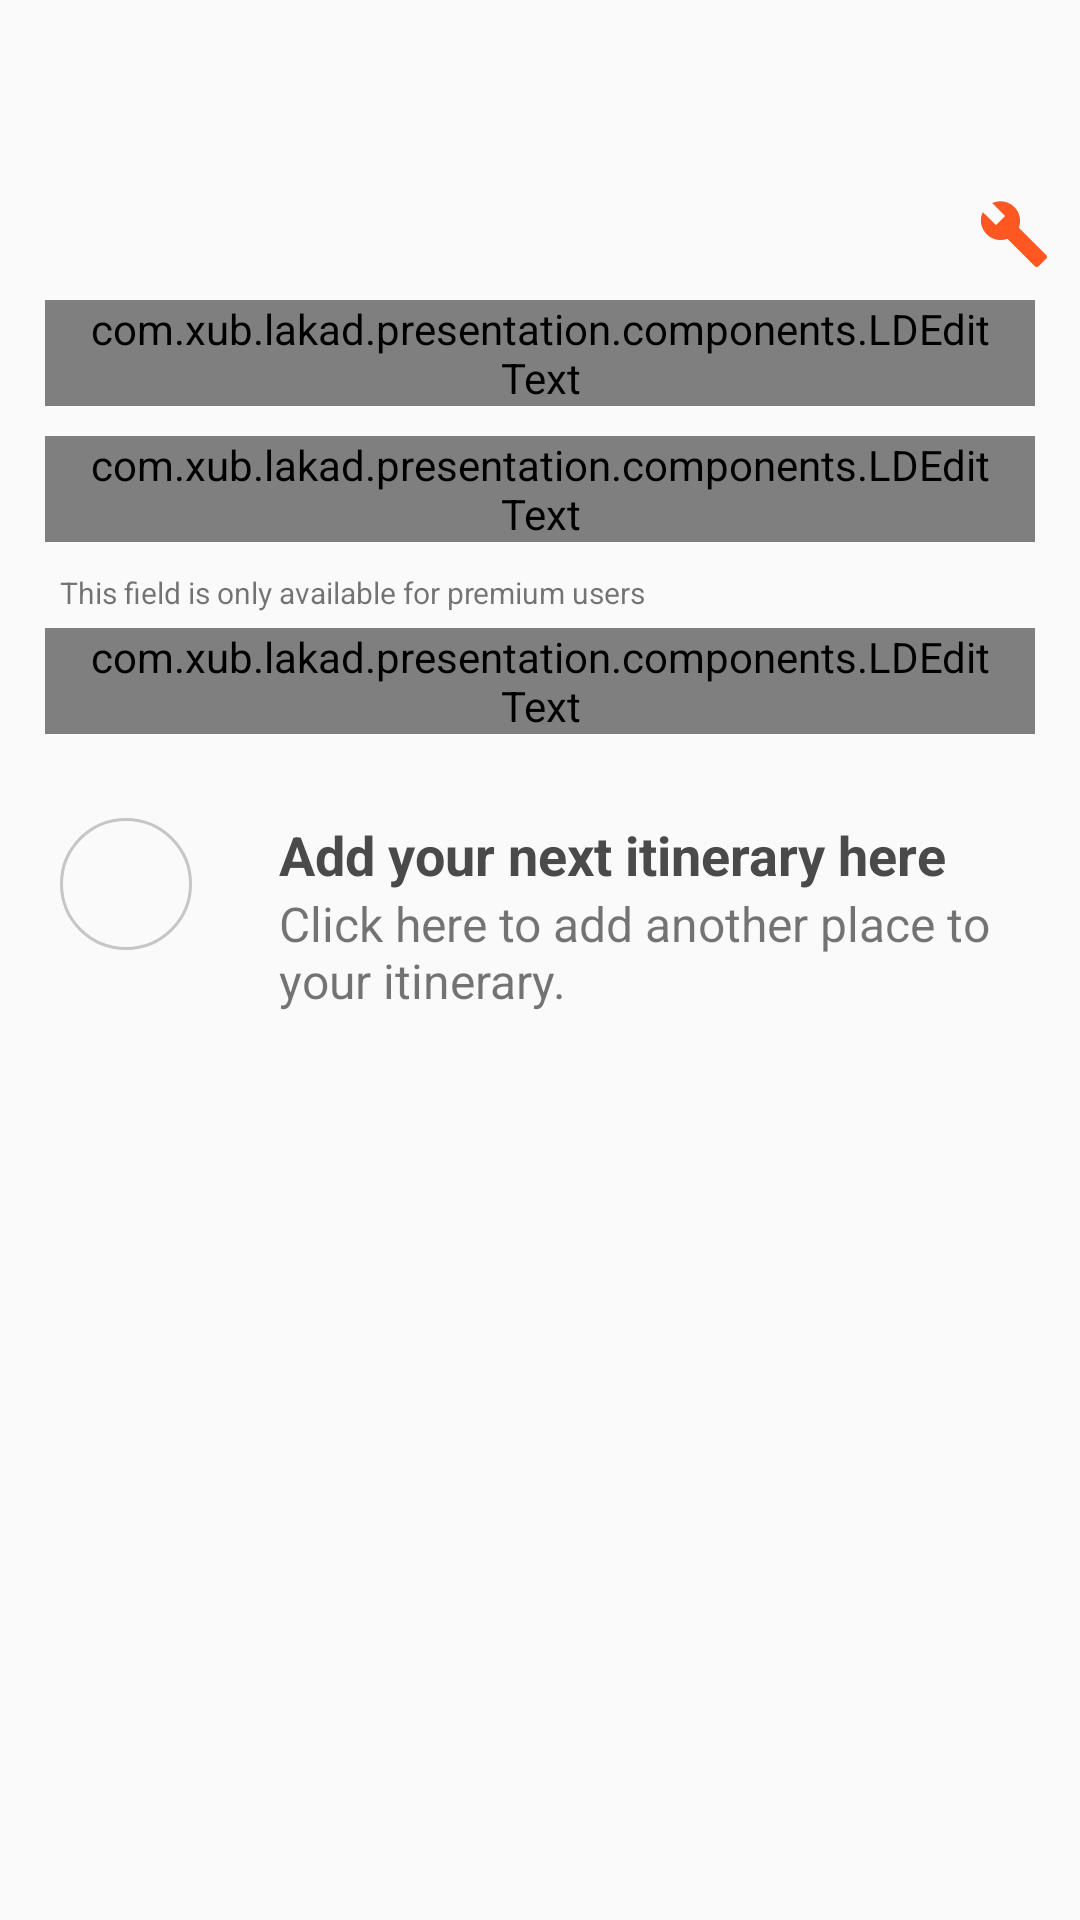

Screen size 1080px×1920px. Icon name, then its box in pixels as detection(x1, y1, x2, y2):
build deep: detection(981, 201, 1047, 267)
